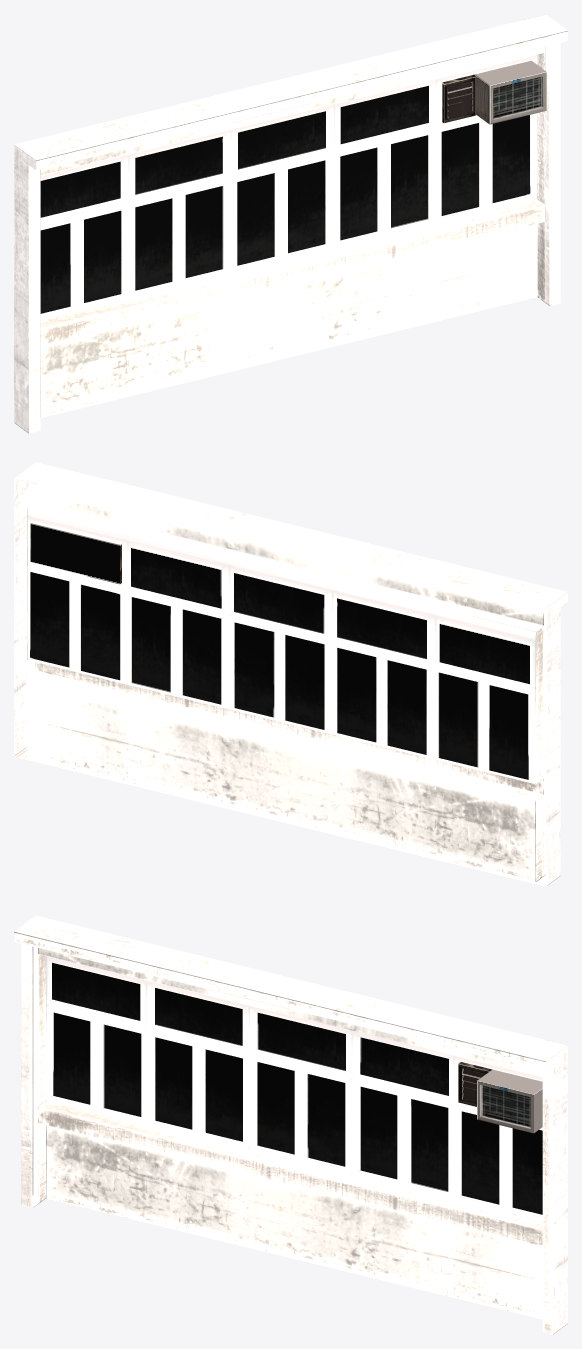
The picture shows the model from 3 angles, top to bottom: view 1: azimuth 30°, elevation 25°; view 2: azimuth 150°, elevation 25°; view 3: azimuth 330°, elevation 25°; orthographic projection.
Visible parts, largest first — view 1: S_B_2; view 2: S_B_2; view 3: S_B_2.
Boxes of the visible parts, left/top/right/bottom form: S_B_2: left=14, top=14, right=567, bottom=433; S_B_2: left=14, top=462, right=567, bottom=886; S_B_2: left=14, top=915, right=567, bottom=1334.
Size of the model in its own units: 480 by 240 by 34.61.
Materials: 1 (1 with a texture image).
